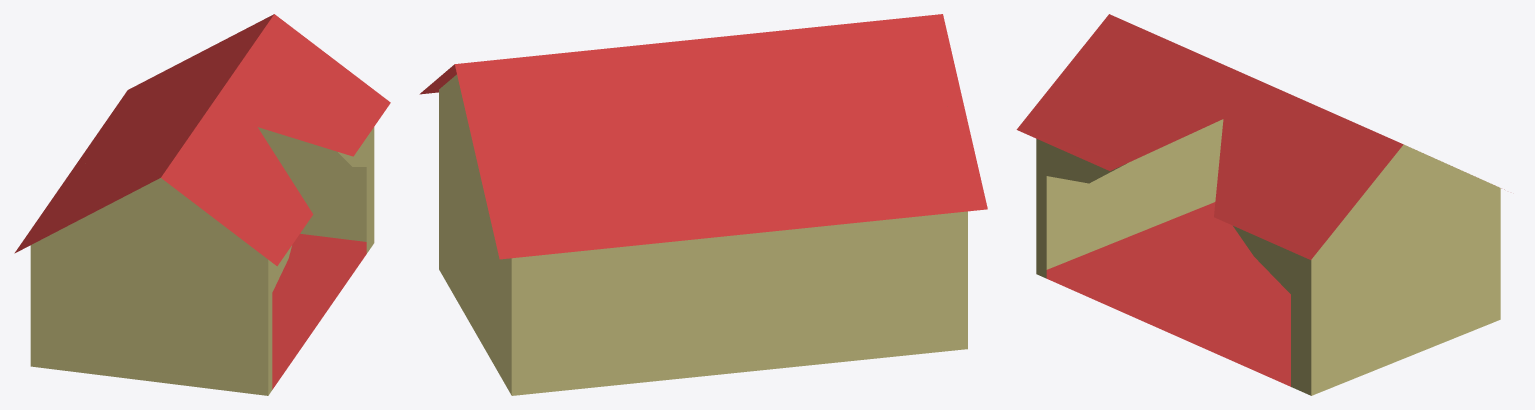
3 renders of one model, left to right at view 1: azimuth 30°, elevation 25°; view 2: azimuth 150°, elevation 25°; view 3: azimuth 270°, elevation 25°, orthographic. The views are drawn at different scales.
Size of the model in its own units: 36.23 by 35.91 by 17.49.
